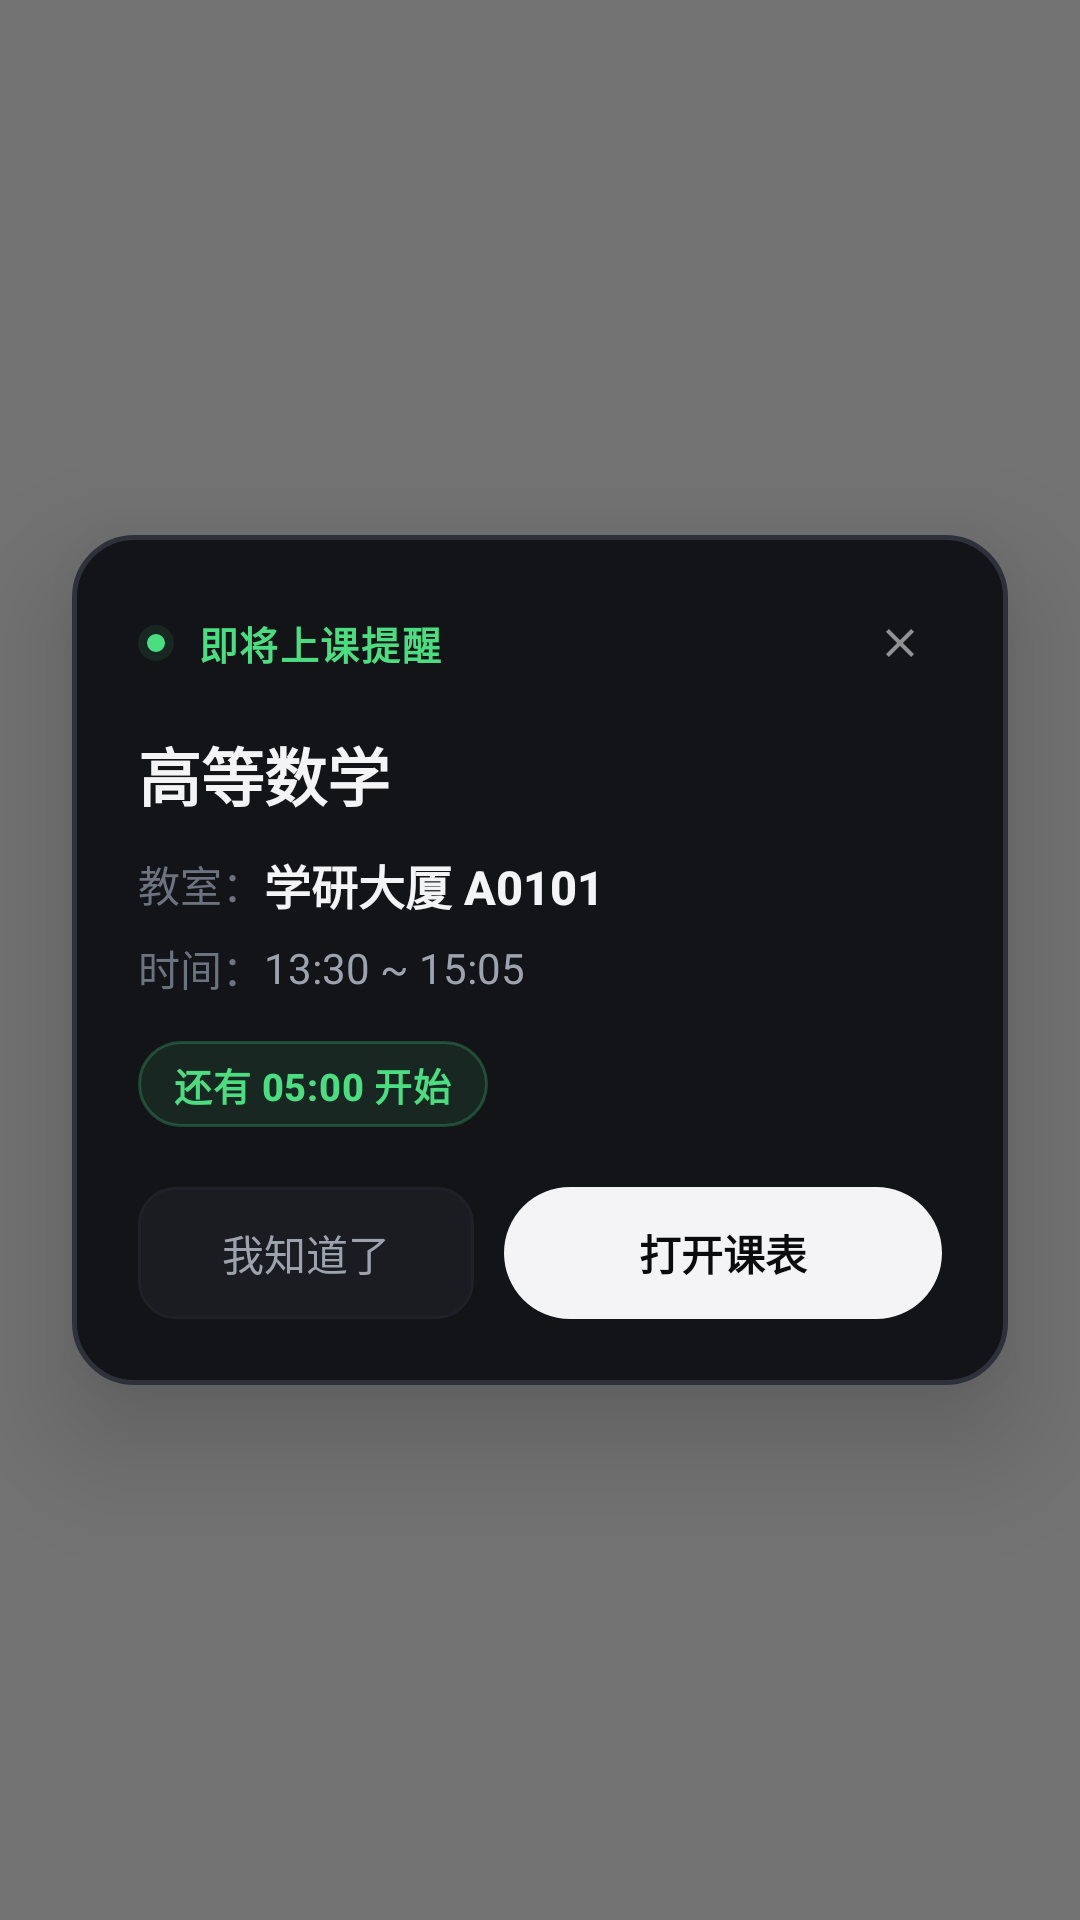

Screen size 1080w x 1920h. Icon name, then its center in pixels as (x=x, y=y):
关闭: (x=900, y=643)
